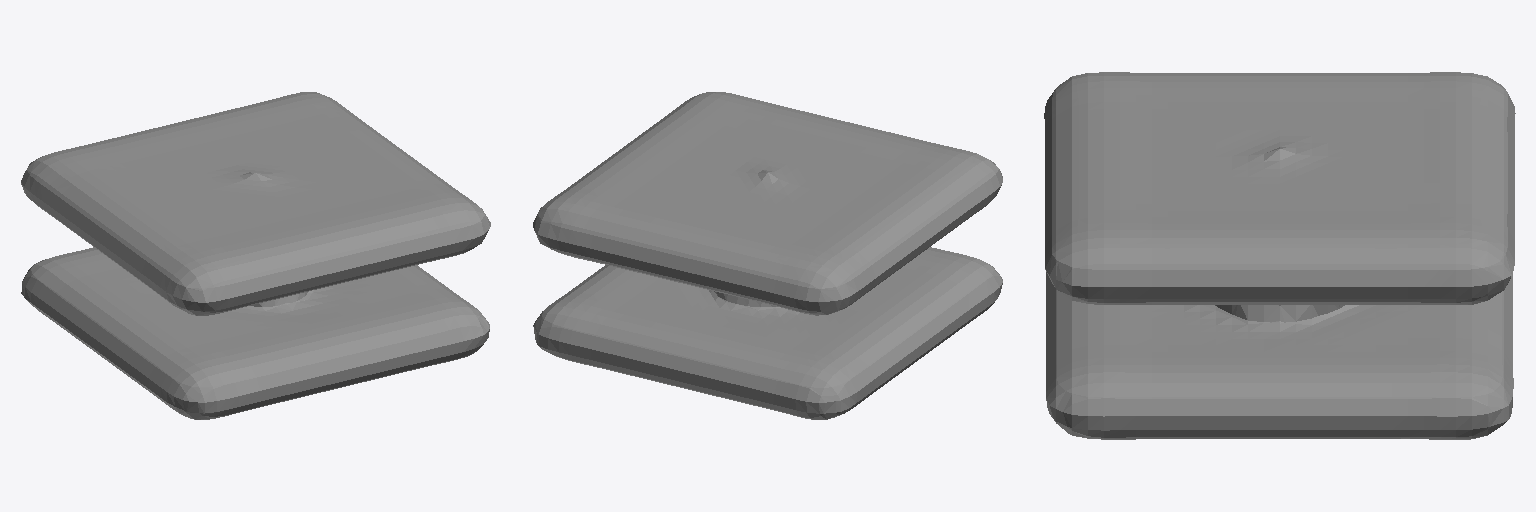
robot.urdf — cube.urdf:
<?xml version="0.0" ?> 
<robot name="cube.urdf"> 
<link name="legobrick"> 
<contact> 
<lateral_friction value="5.0"/> 
<rolling_friction value="0.0"/> 
<contact_cfm value="0.0"/> 
<contact_erp value="1.0"/> 
</contact> 
<inertial> 
<origin rpy="0 0 0" xyz="0.0 0.0 0.0"/> 
<mass value=".01"/> 
<inertia ixx="1" ixy="0" ixz="0" iyy="1" iyz="0" izz="1"/> 
</inertial> 
<visual> 
<origin rpy="1.570796 0 0" xyz="-0.026492869063654893 0.026475246091442865 -0.024458789513523416"/> 
<geometry> 
<mesh filename="S05_2.obj" scale="0.0005600730373325648 0.0005600730373325648 0.0005600730373325648"/> 
</geometry> 
<material name="yellow"> 
<color rgba="0.6 0.6 0.6 1"/> 
</material> 
</visual> 
<collision> 
<origin rpy="1.570796 0 0" xyz="-0.026492869063654893 0.026475246091442865 -0.024458789513523416"/> 
<geometry> 
<mesh filename="S05_2.obj" scale="0.0005600730373325648 0.0005600730373325648 0.0005600730373325648"/> 
</geometry> 
</collision> 
</link> 
</robot>

--- Render facts (derived) ---
3 views of the same robot in one strip: view 1: azimuth 30°, elevation 25°; view 2: azimuth 150°, elevation 25°; view 3: azimuth 270°, elevation 25° (orthographic).
Robot: cube.urdf — 1 links, 0 joints (none); root link legobrick; default pose: every joint at zero.
Visible links, largest first — view 1: legobrick; view 2: legobrick; view 3: legobrick.
Boxes of the visible links, <box> form: legobrick: <box>21,92,490,419</box>; legobrick: <box>533,92,1002,419</box>; legobrick: <box>1044,72,1515,439</box>.
Size in the robot's own frame: 0.056 by 0.056 by 0.0273 metres.
1 mesh visuals loaded from 1 distinct referenced files (1 OBJ).
